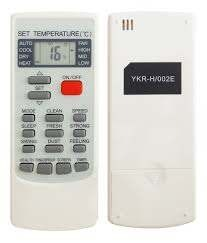remote control: (111, 12, 195, 232), (17, 8, 100, 228)
